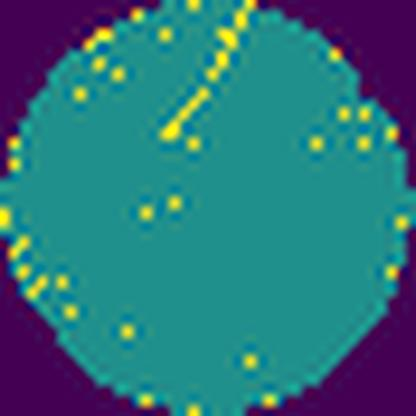Scratch: (154, 0, 256, 149)
